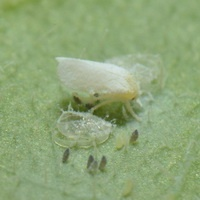insect: (56, 54, 163, 123), (56, 57, 140, 120)
